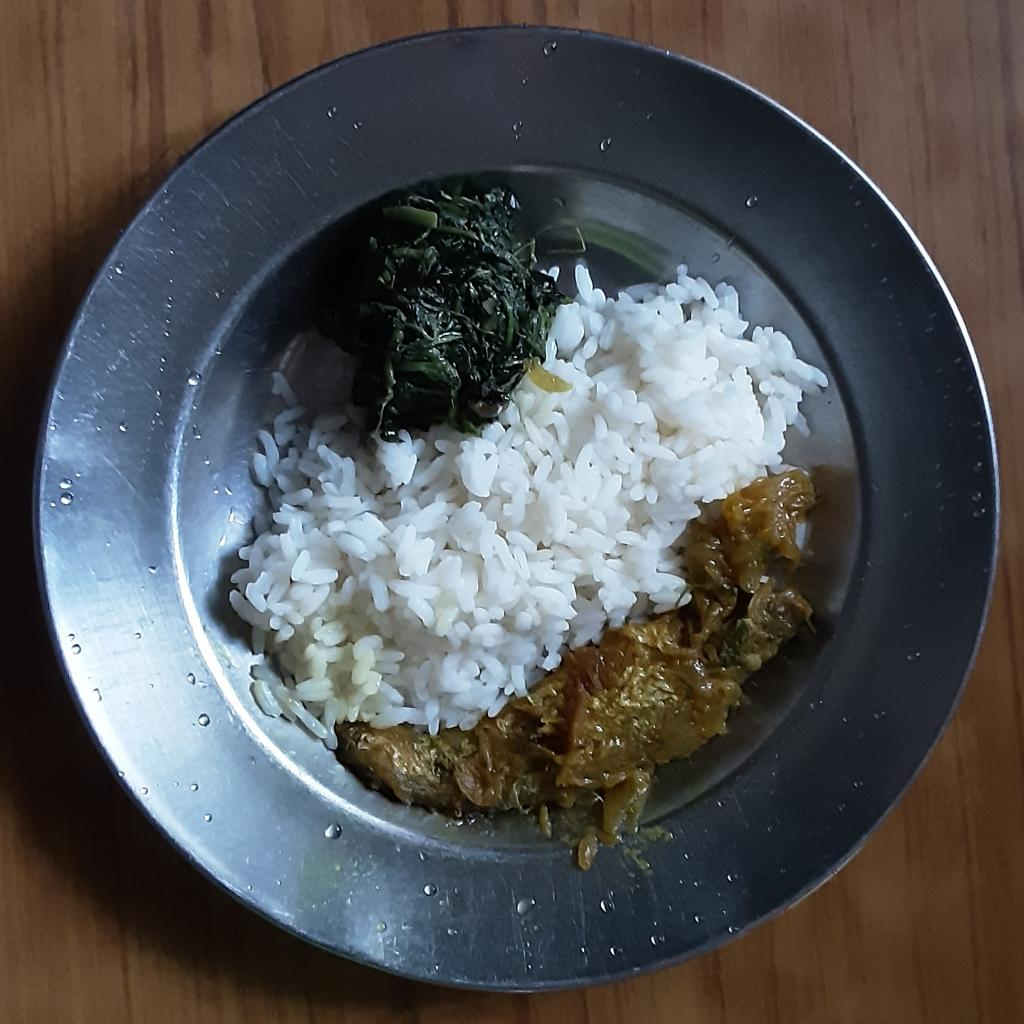fish: (338, 470, 815, 872)
rice: (230, 260, 828, 747)
shak: (308, 184, 559, 432)
